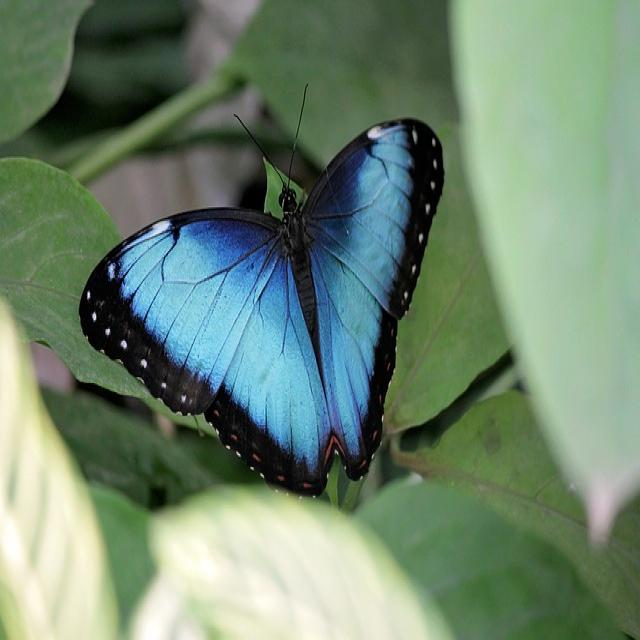butterfly: (81, 118, 444, 495)
